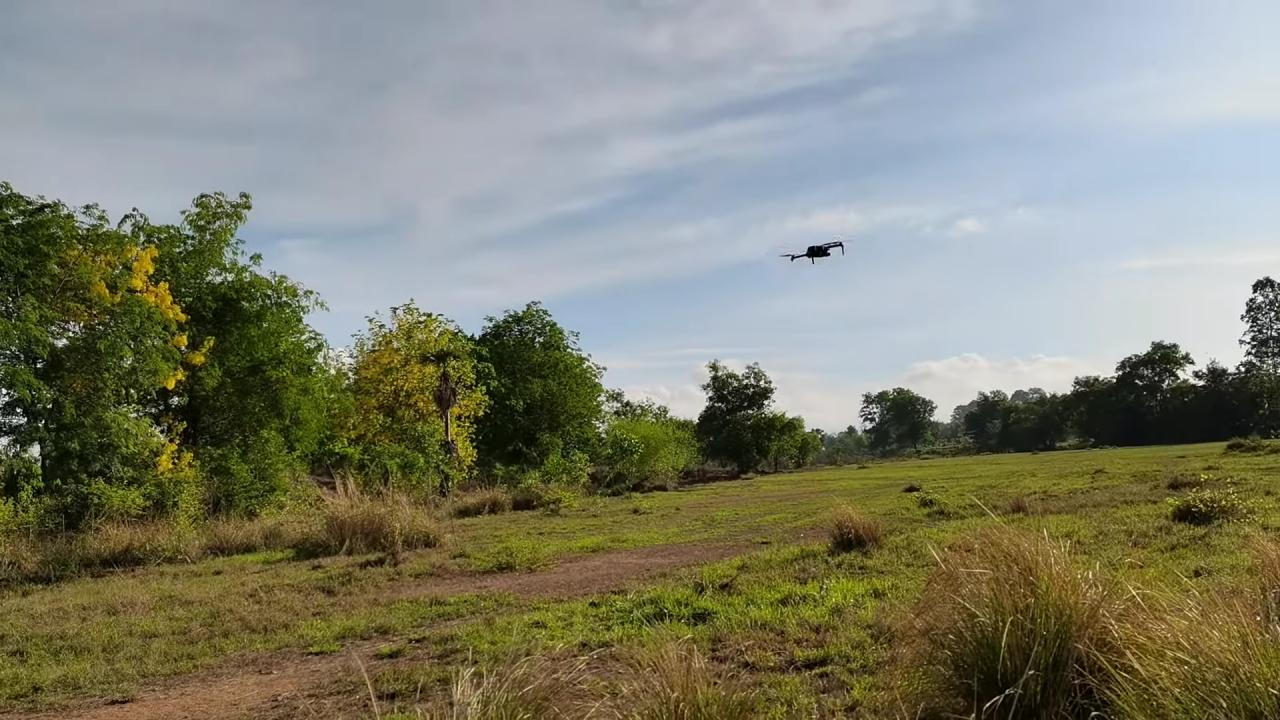Drone: (770, 233, 854, 270)
